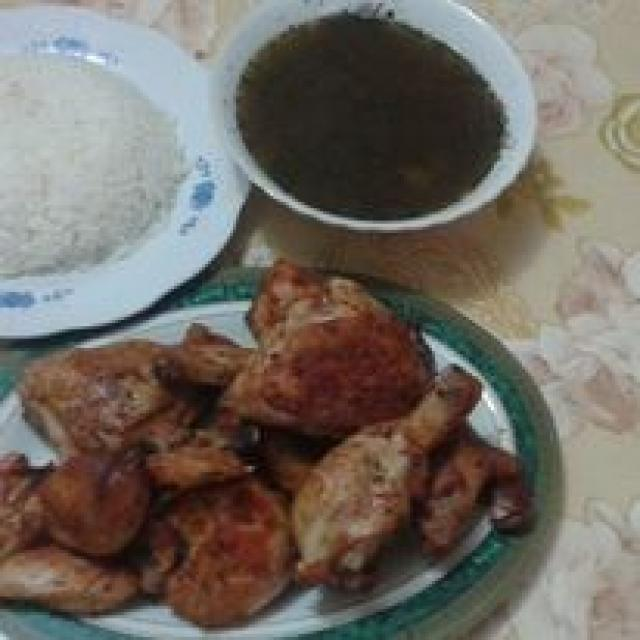Chicken Wings: (295, 367, 497, 587)
White Rice: (0, 37, 192, 281)
